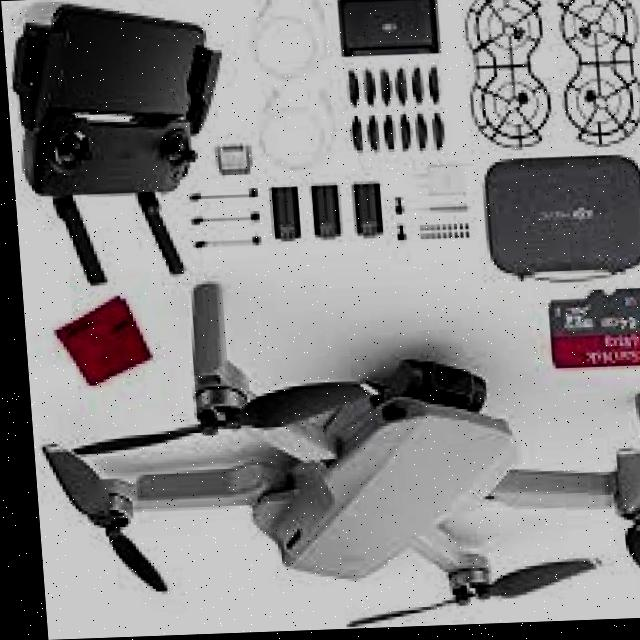drone: (17, 265, 640, 640)
